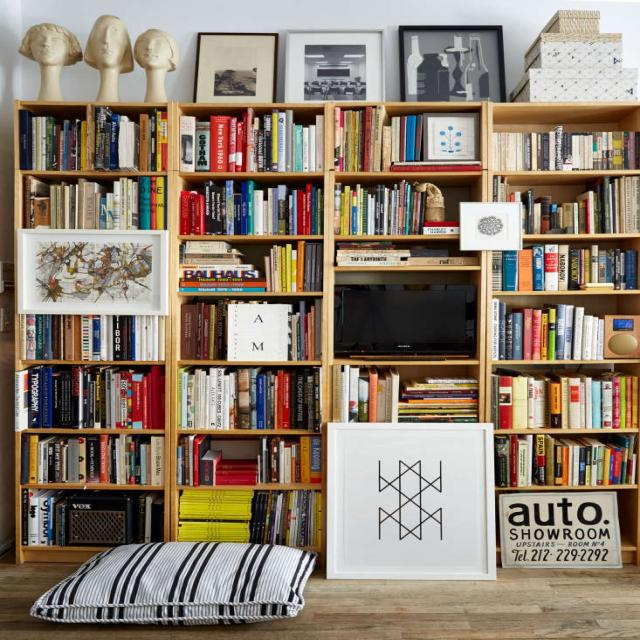Shelf: (10, 98, 640, 572)
